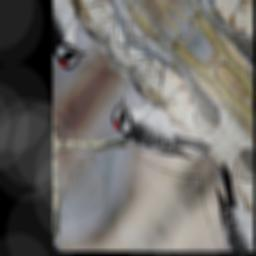Woodpecker: (106, 66, 215, 199)
